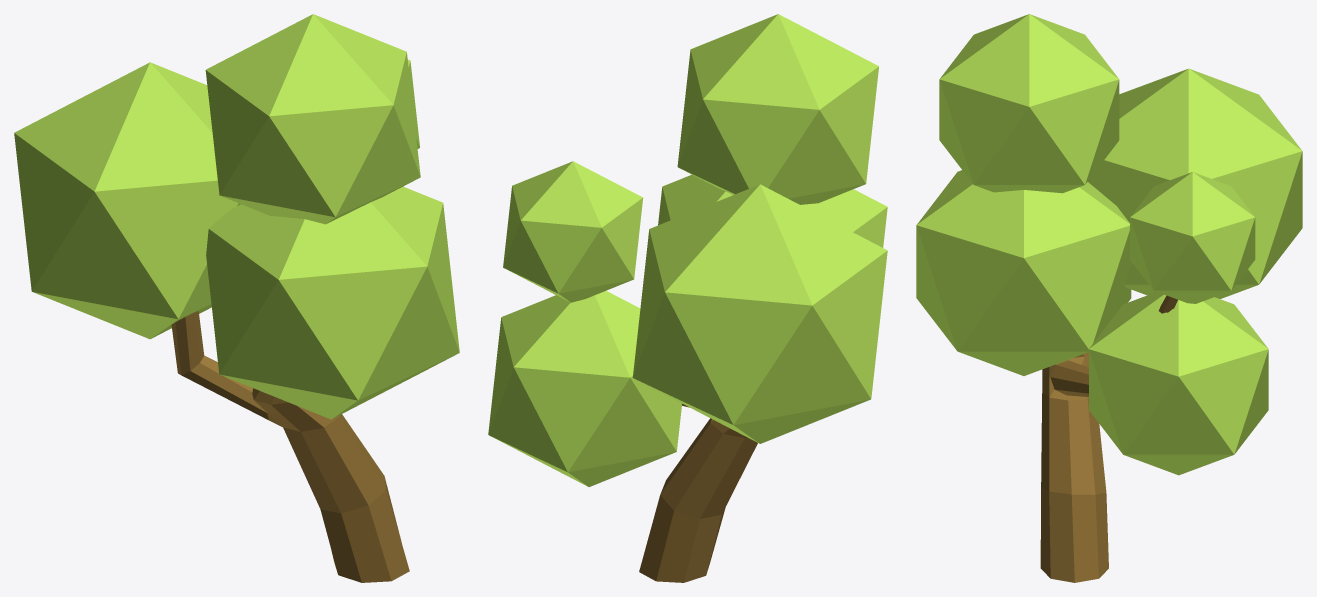
The model's file is tree.fbx.
The picture shows the model from 3 angles, left to right: view 1: azimuth 30°, elevation 25°; view 2: azimuth 150°, elevation 25°; view 3: azimuth 270°, elevation 25°; orthographic projection. The views are drawn at different scales.
Parts seen in each view (by area): view 1: Cube; view 2: Cube; view 3: Cube.
Boxes of the visible parts, box(x1,y1,x2,y2) form: Cube: box(14, 14, 459, 582); Cube: box(488, 14, 887, 582); Cube: box(916, 14, 1302, 582).
Bounding box in the file's own units: 1428 × 2020 × 1364.
